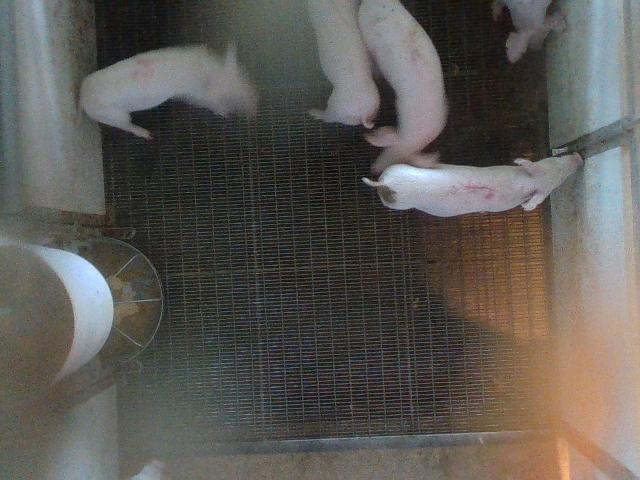pig-4: (79, 45, 258, 138)
pig-5: (362, 152, 582, 217)
